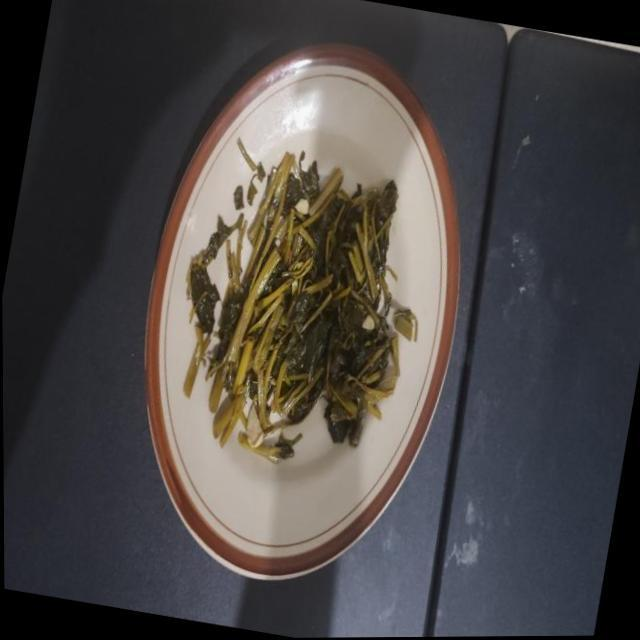tumis_kangkung: (205, 152, 398, 447)
